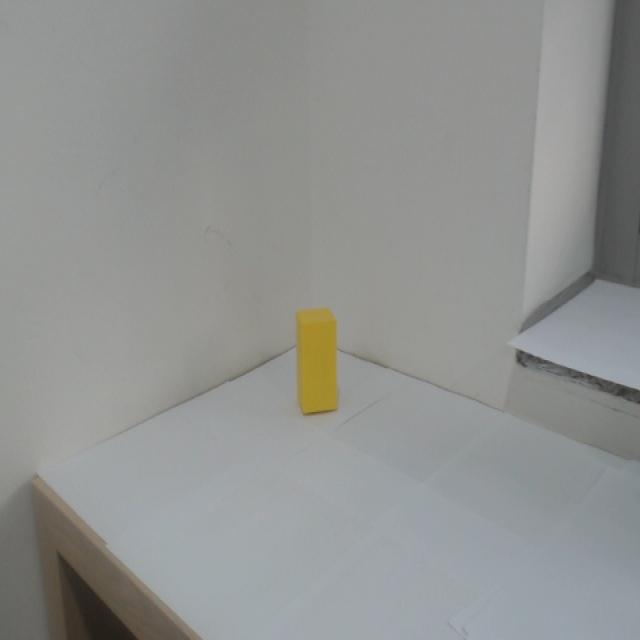cube: (292, 294, 352, 430)
